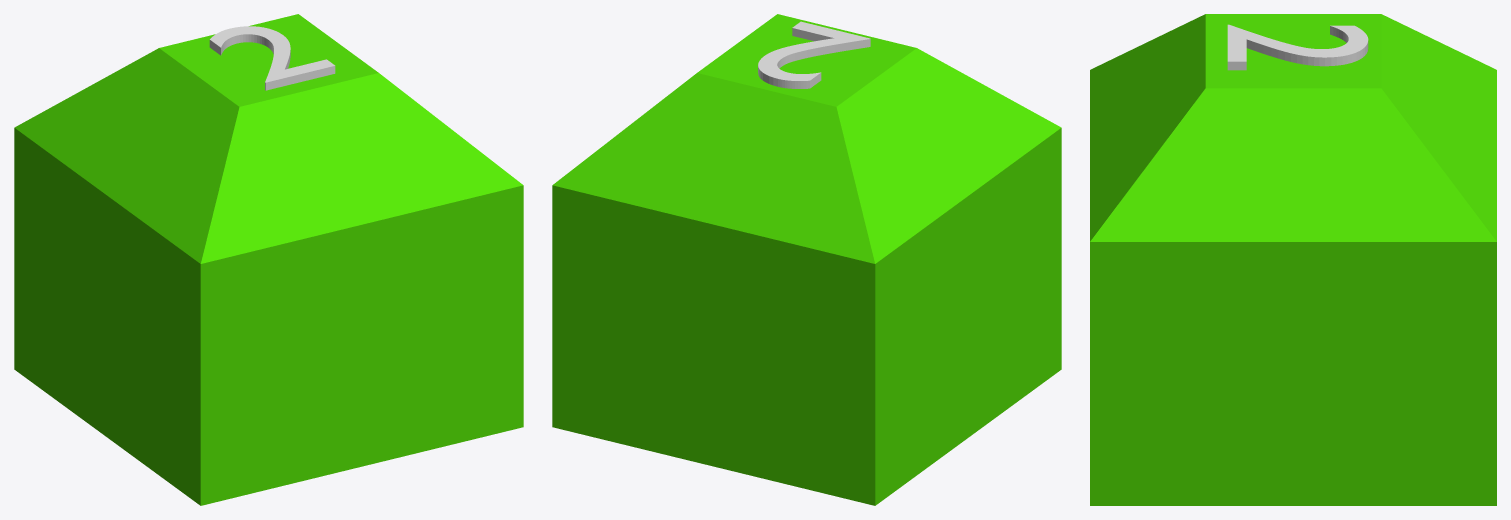
File: house2.dae
The picture shows the model from 3 angles, left to right: view 1: azimuth 30°, elevation 25°; view 2: azimuth 150°, elevation 25°; view 3: azimuth 270°, elevation 25°; orthographic projection. The views are drawn at different scales.
Visible parts, largest first — view 1: House2; view 2: House2; view 3: House2.
Part boxes in pixels (x1=…): House2: x1=14, y1=14, x2=523, y2=505; House2: x1=552, y1=14, x2=1061, y2=505; House2: x1=1090, y1=14, x2=1496, y2=505.
Bounding box in the file's own units: 2 × 2 × 2.05.
